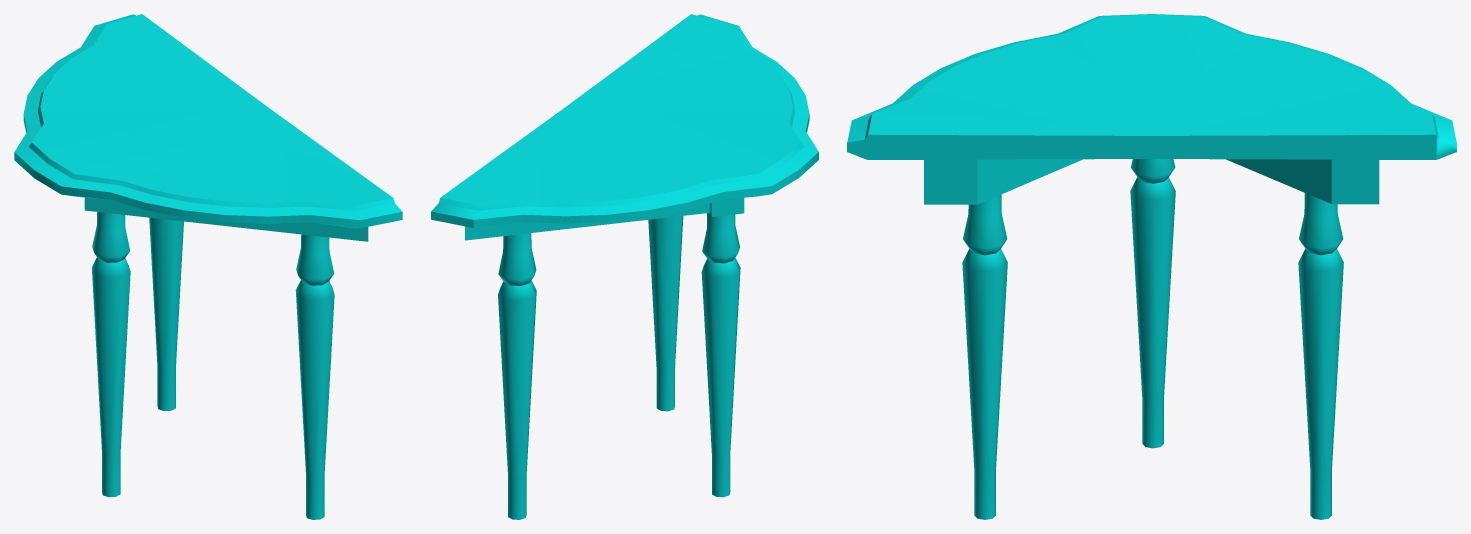
File: Table_03.fbx
3 renders of one model, left to right at view 1: azimuth 30°, elevation 25°; view 2: azimuth 150°, elevation 25°; view 3: azimuth 270°, elevation 25°, orthographic. The views are drawn at different scales.
Visible parts, largest first — view 1: Table_03; view 2: Table_03; view 3: Table_03.
Part boxes in pixels (bbox=[...]): Table_03: bbox=[14, 14, 402, 519]; Table_03: bbox=[431, 14, 818, 519]; Table_03: bbox=[847, 14, 1456, 519].
Size of the model in its own units: 64.56 by 92.25 by 129.
